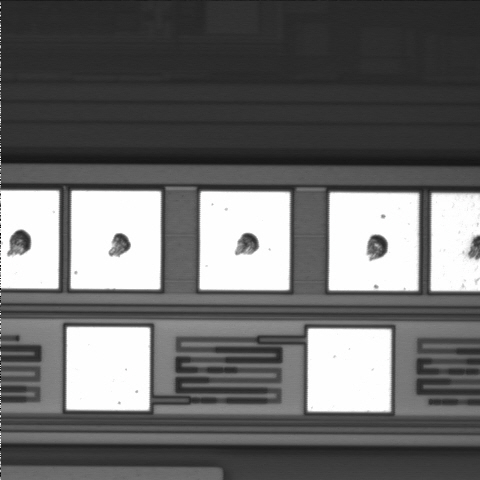pad: (200, 191, 290, 290), (71, 191, 161, 289), (329, 193, 419, 291), (66, 327, 150, 410), (308, 329, 391, 412)
